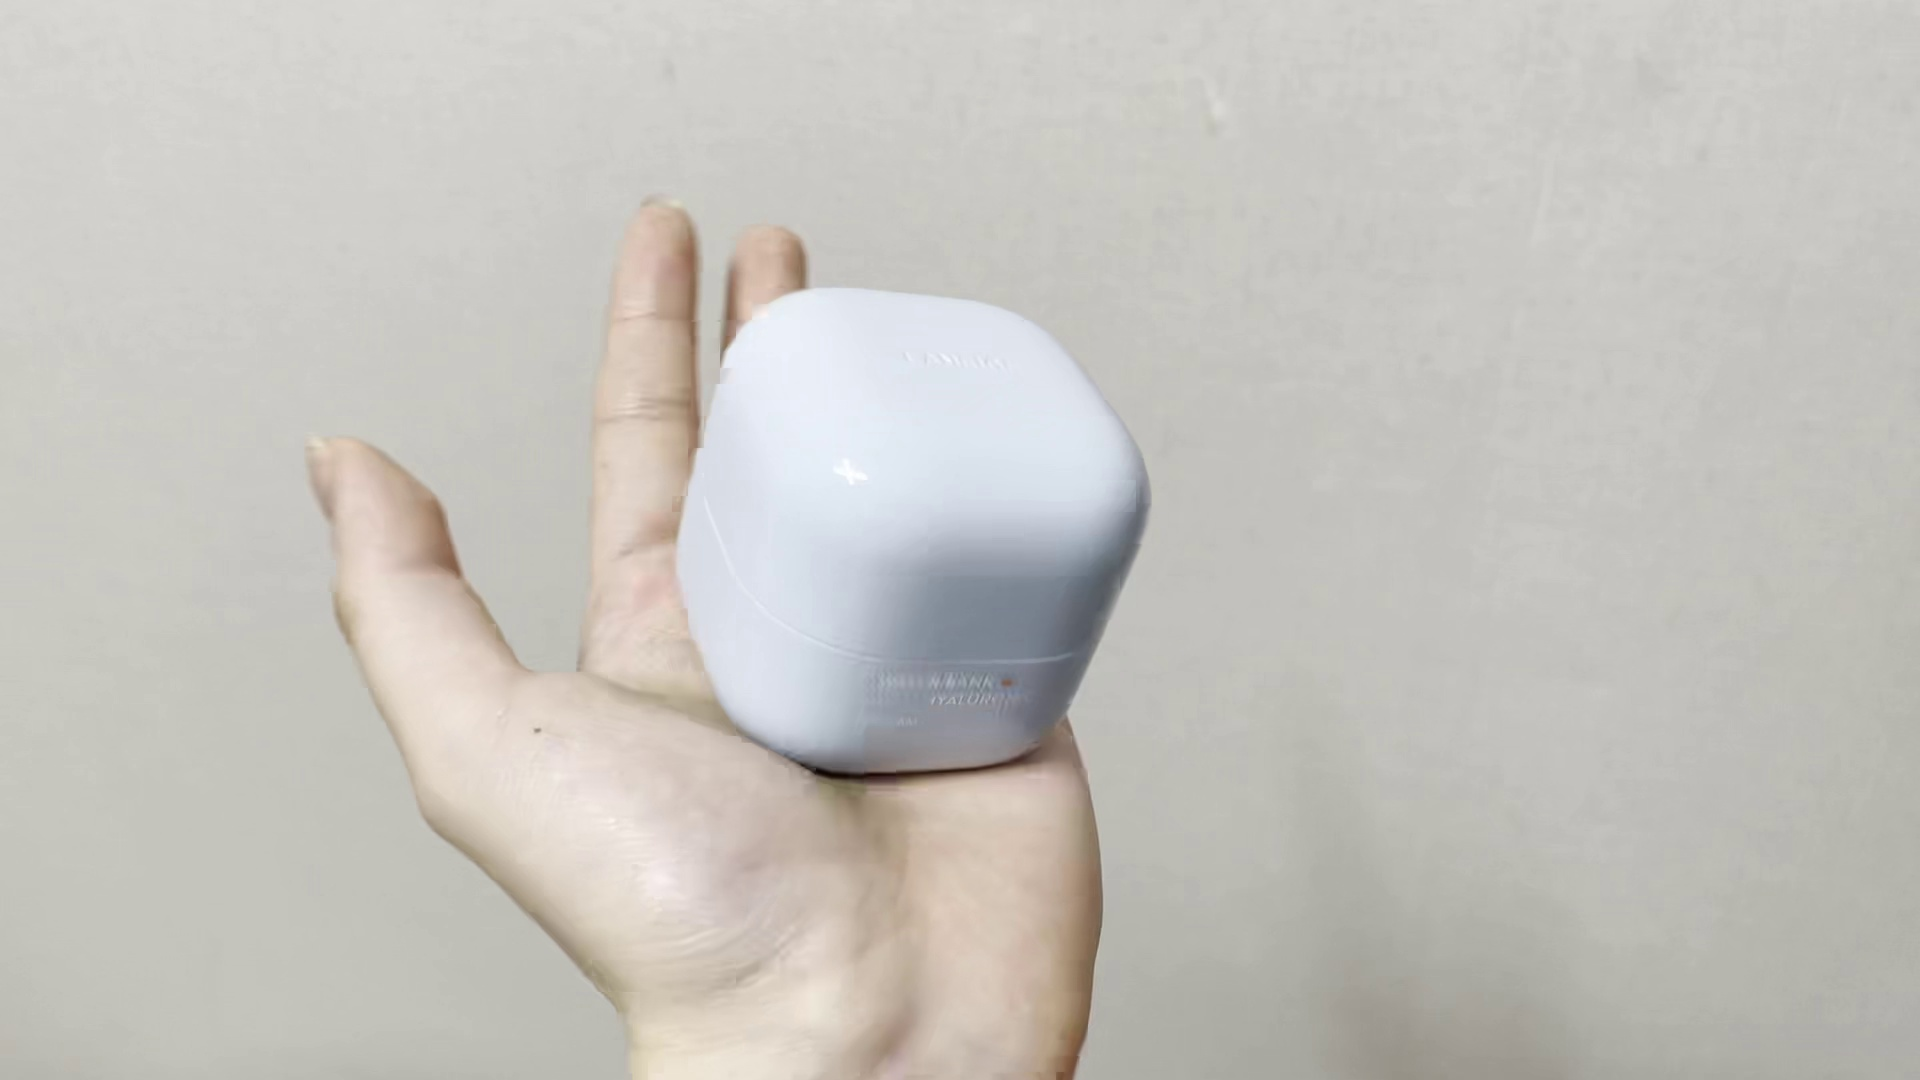cream: (673, 264, 1154, 781)
